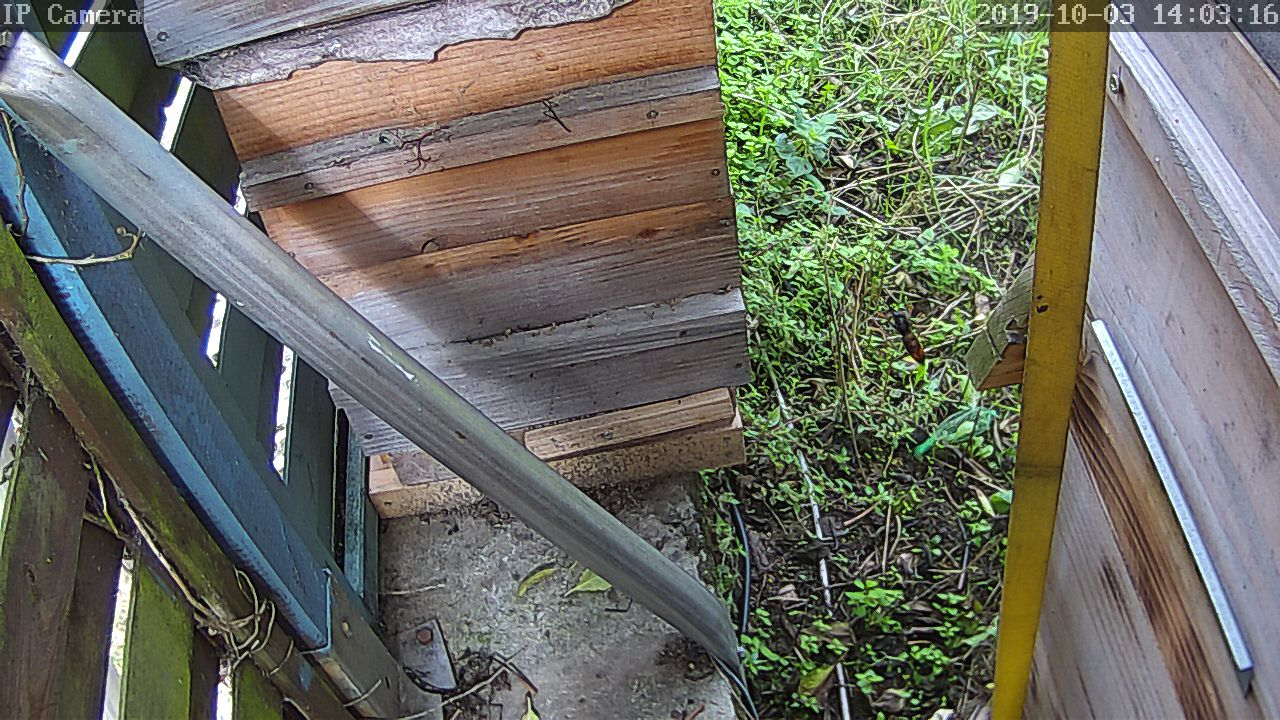hornet: (884, 306, 931, 366)
